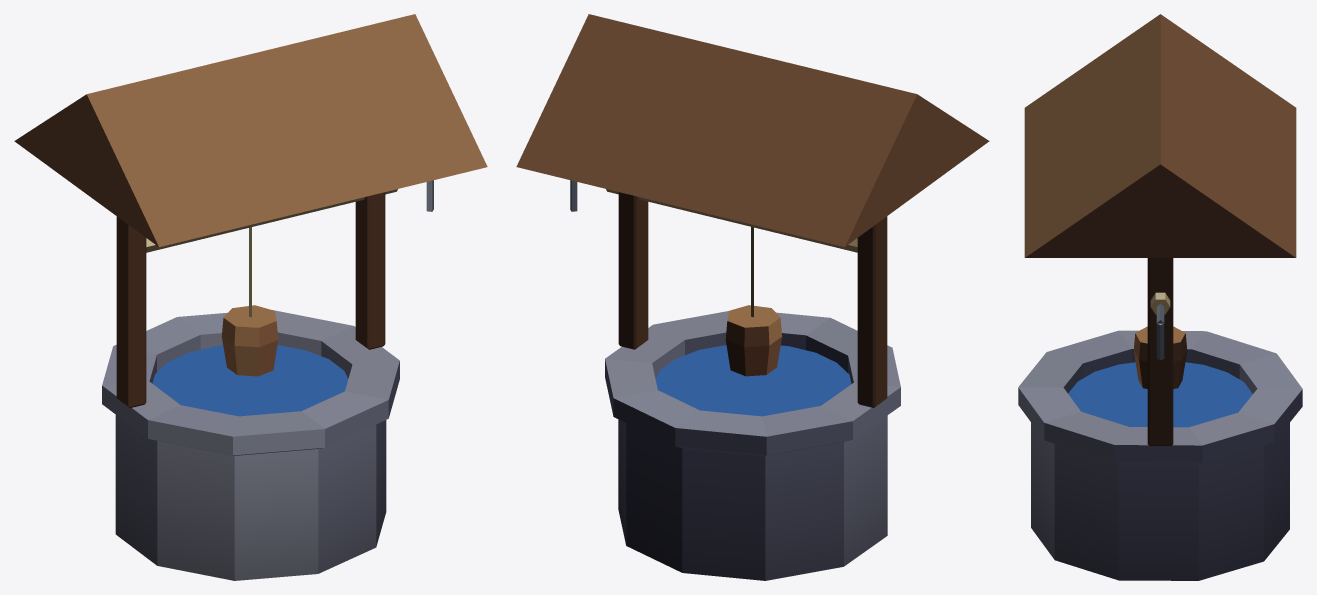
The model's file is well.glb.
3 views of the same model, side by side, from view 1: azimuth 30°, elevation 25°; view 2: azimuth 150°, elevation 25°; view 3: azimuth 270°, elevation 25° (orthographic). The views are drawn at different scales.
Visible parts, largest first — view 1: well; view 2: well; view 3: well.
Part boxes in pixels (left/top/right/bottom): well: left=14, top=14, right=487, bottom=580; well: left=516, top=14, right=989, bottom=580; well: left=1018, top=14, right=1302, bottom=580.
Bounding box in the file's own units: 1.16 × 1.5 × 0.8799.
